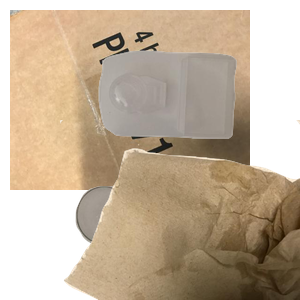cardboard: (10, 10, 250, 190)
glass: (73, 184, 214, 300)
plastic: (96, 48, 300, 179)
trash: (60, 120, 300, 300)
